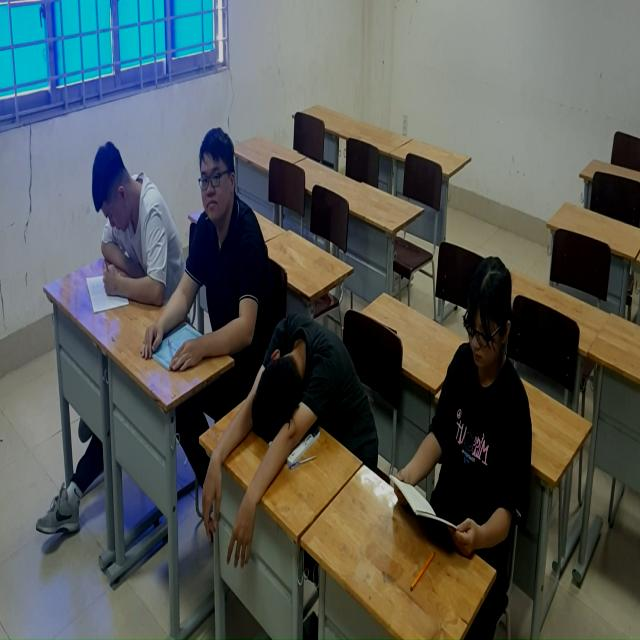read: (383, 252, 535, 570), (143, 125, 267, 377), (82, 137, 170, 329)
sleep: (201, 310, 378, 567)
